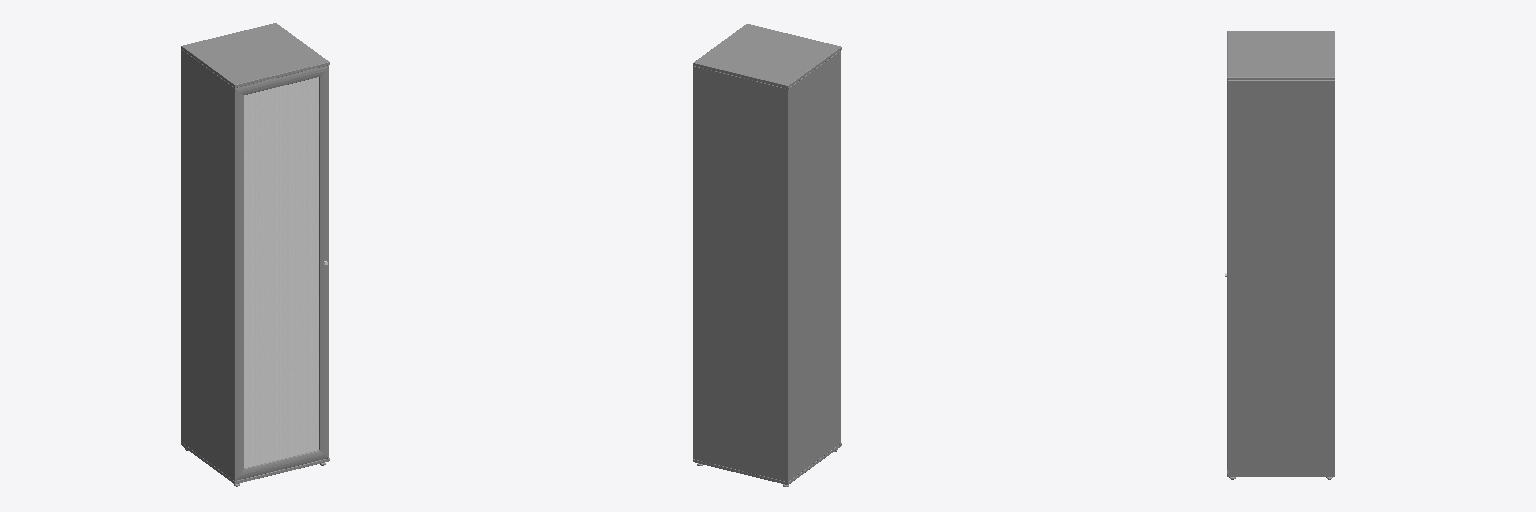
3 renders of one model, left to right at view 1: azimuth 30°, elevation 25°; view 2: azimuth 150°, elevation 25°; view 3: azimuth 270°, elevation 25°, orthographic.
Bounding box in the file's own units: 0.51 × 2.07 × 0.51.
Materials: 3 (1 with a texture image).